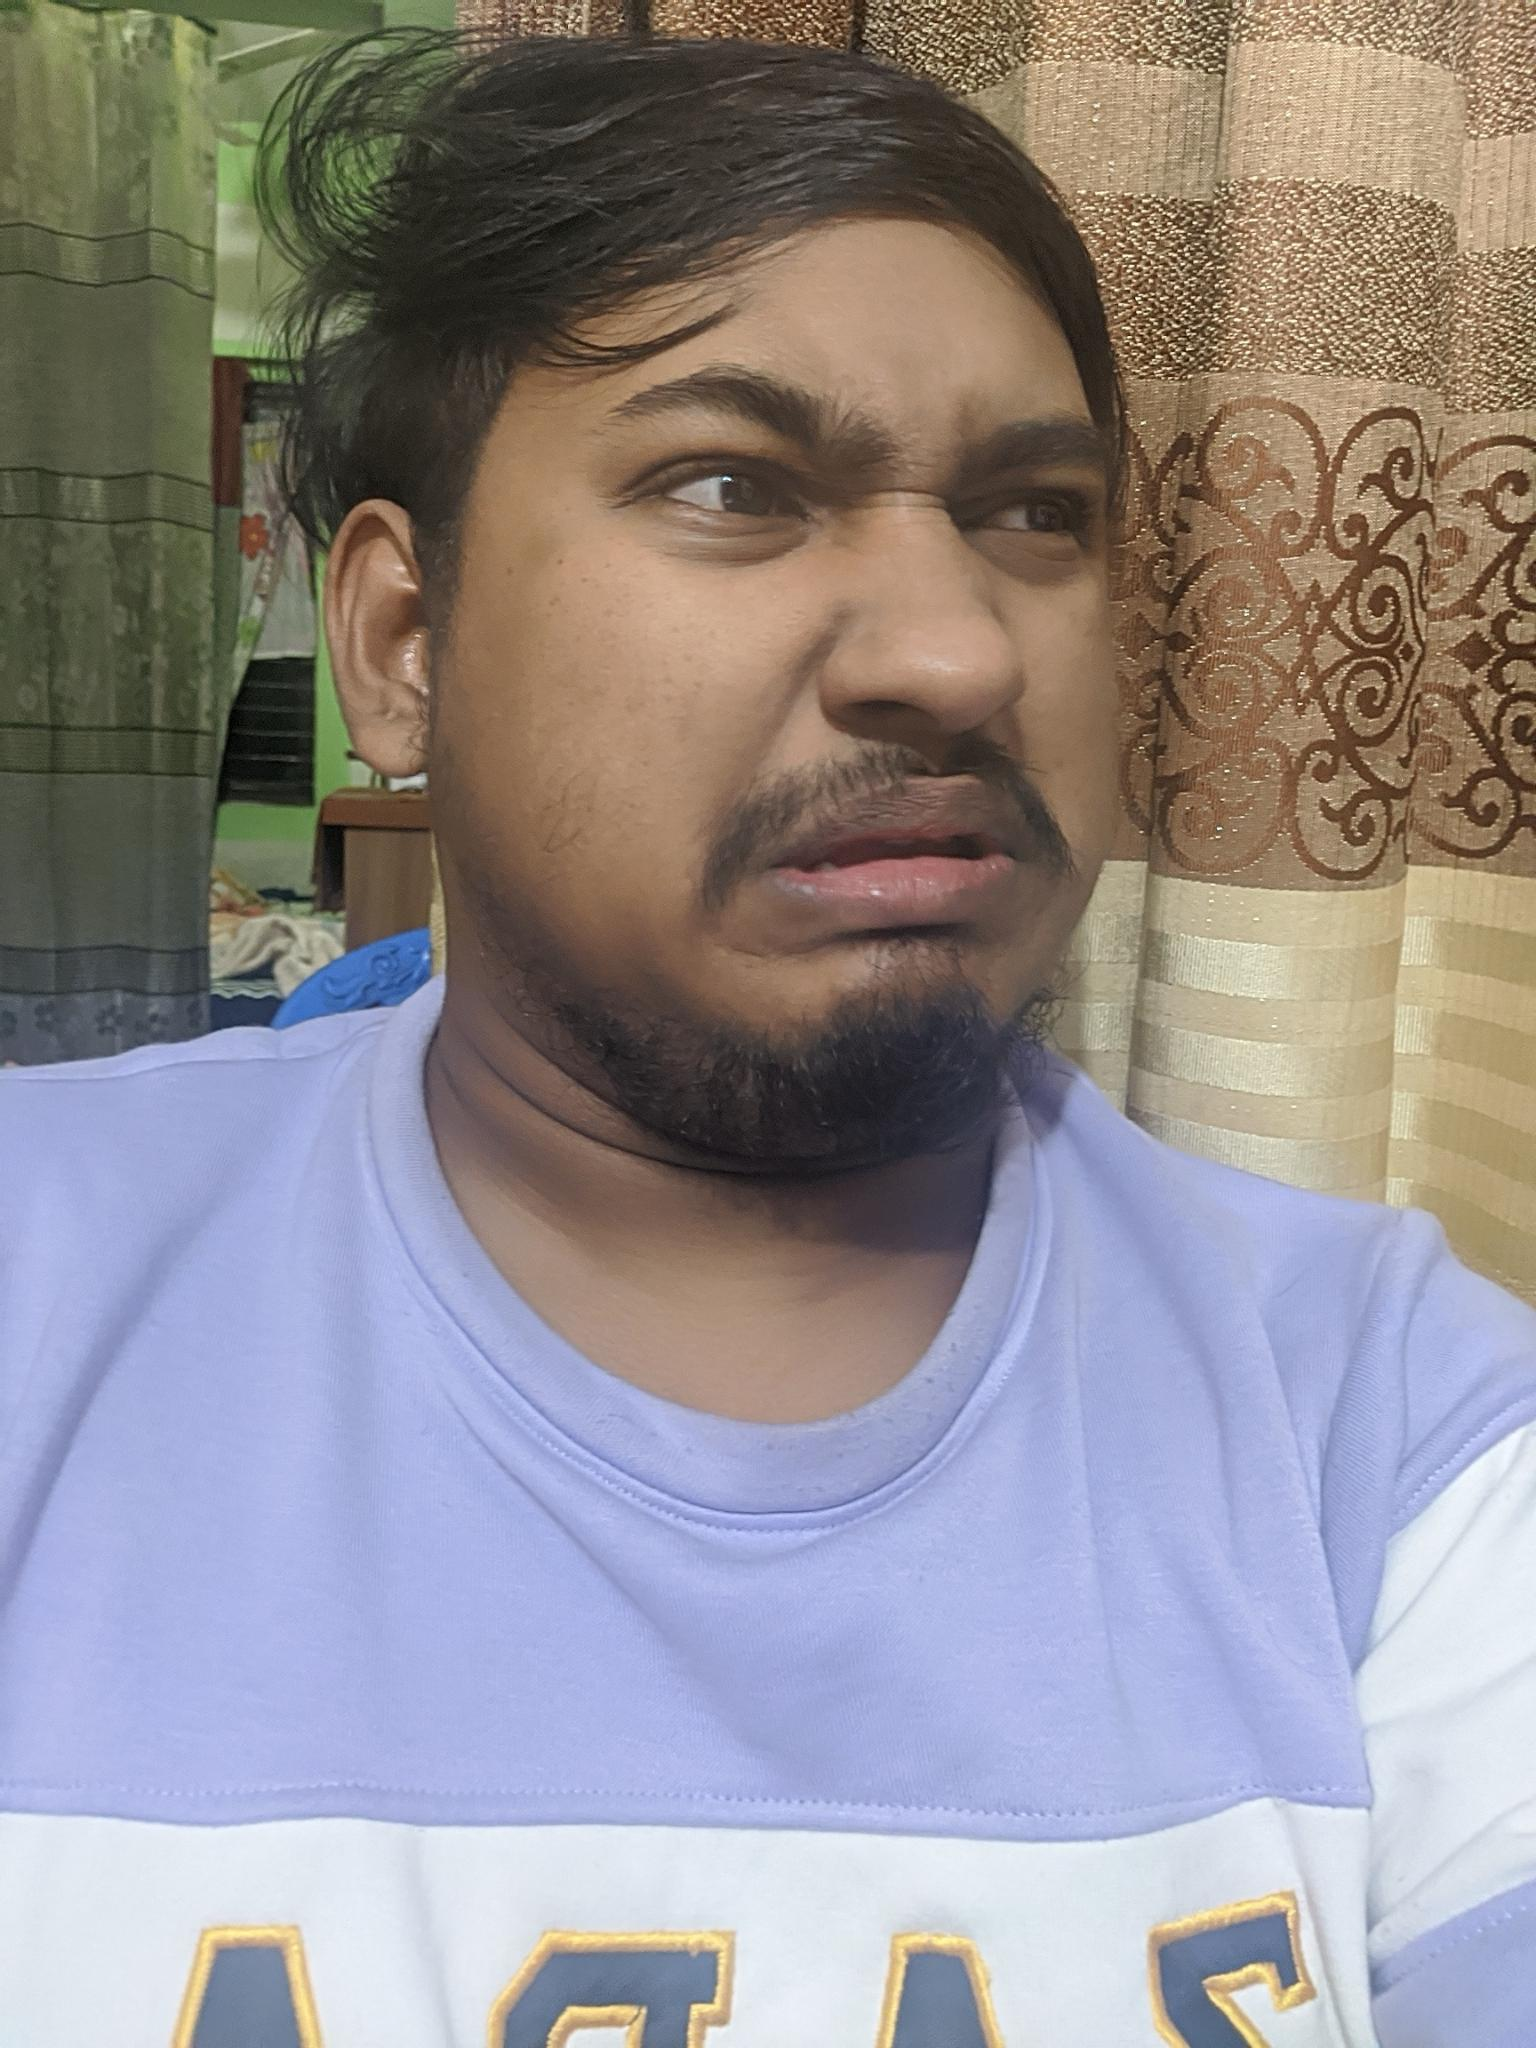Disgust: (566, 263, 1167, 1134)
